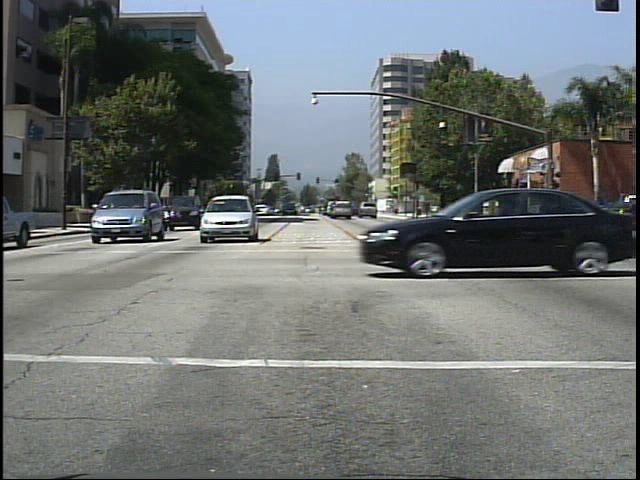person: (564, 192, 589, 243)
